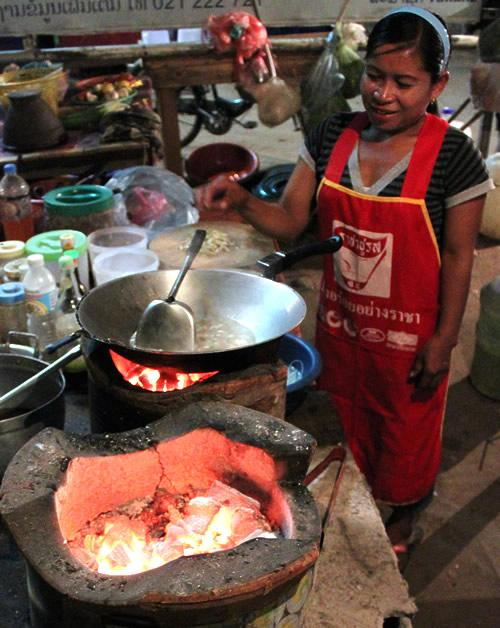person: (191, 5, 488, 567)
